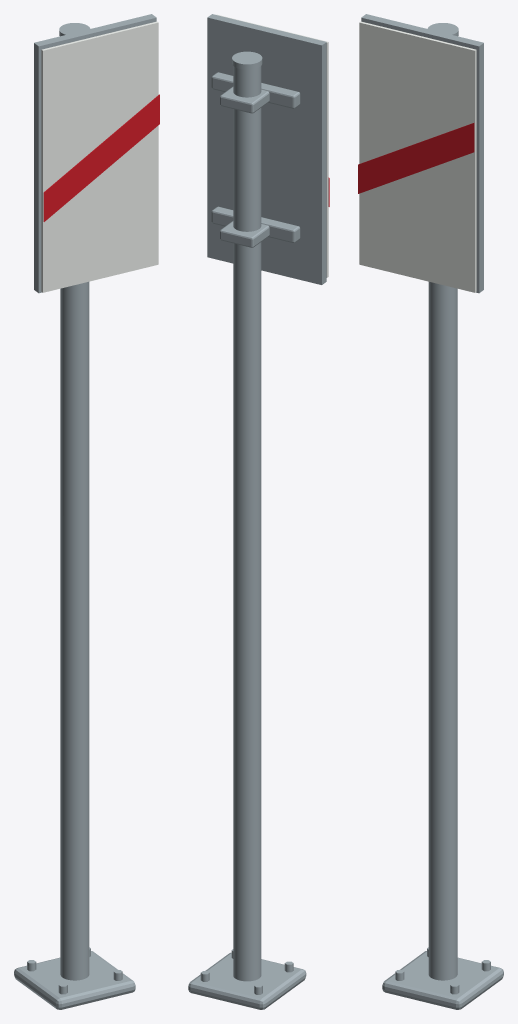
Rendered from DS_Sign_RailwayDist1_R.glb.
3 renders of one model, left to right at view 1: azimuth 30°, elevation 25°; view 2: azimuth 150°, elevation 25°; view 3: azimuth 330°, elevation 25°, orthographic. The views are drawn at different scales.
Visible parts, largest first — view 1: Face_Field.004, Post.006, Stripe_0.002, BasePlate.006, Plate_Back.009; view 2: Post.006, Plate_Back.009, BasePlate.006, RearRail.014, RearRail.013, Face_Field.004, PostClamp.014, PostClamp.013, PostCap.006; view 3: Face_Field.004, Post.006, BasePlate.006, Stripe_0.002, Plate_Back.009.
Boxes of the visible parts, bbox=[...] form: Face_Field.004: bbox=[41, 21, 158, 292]; Post.006: bbox=[60, 281, 89, 980]; Stripe_0.002: bbox=[43, 94, 159, 221]; BasePlate.006: bbox=[14, 951, 135, 1009]; Plate_Back.009: bbox=[34, 14, 156, 293]; Post.006: bbox=[233, 66, 261, 981]; Plate_Back.009: bbox=[207, 14, 326, 284]; BasePlate.006: bbox=[188, 952, 306, 1009]; RearRail.014: bbox=[211, 72, 300, 108]; RearRail.013: bbox=[211, 206, 300, 242]; Face_Field.004: bbox=[216, 14, 328, 277]; PostClamp.014: bbox=[220, 86, 269, 113]; PostClamp.013: bbox=[220, 221, 269, 247]; PostCap.006: bbox=[232, 51, 262, 69]; Face_Field.004: bbox=[359, 21, 476, 292]; Post.006: bbox=[428, 281, 457, 980]; BasePlate.006: bbox=[382, 951, 503, 1009]; Stripe_0.002: bbox=[358, 123, 474, 193]; Plate_Back.009: bbox=[361, 14, 483, 293].
Size of the model in its own units: 0.357 by 2.81 by 0.262.
